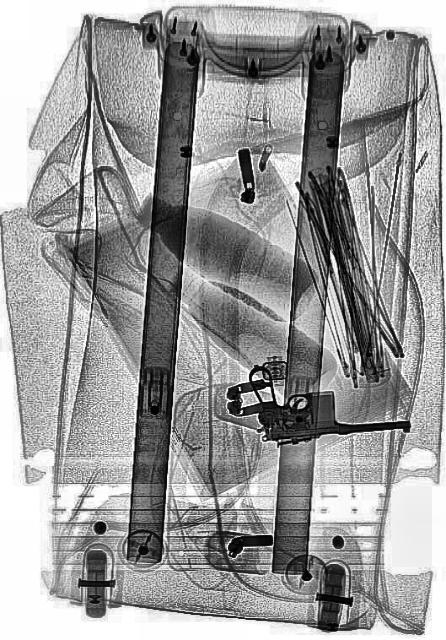Gun: (246, 352, 410, 448)
